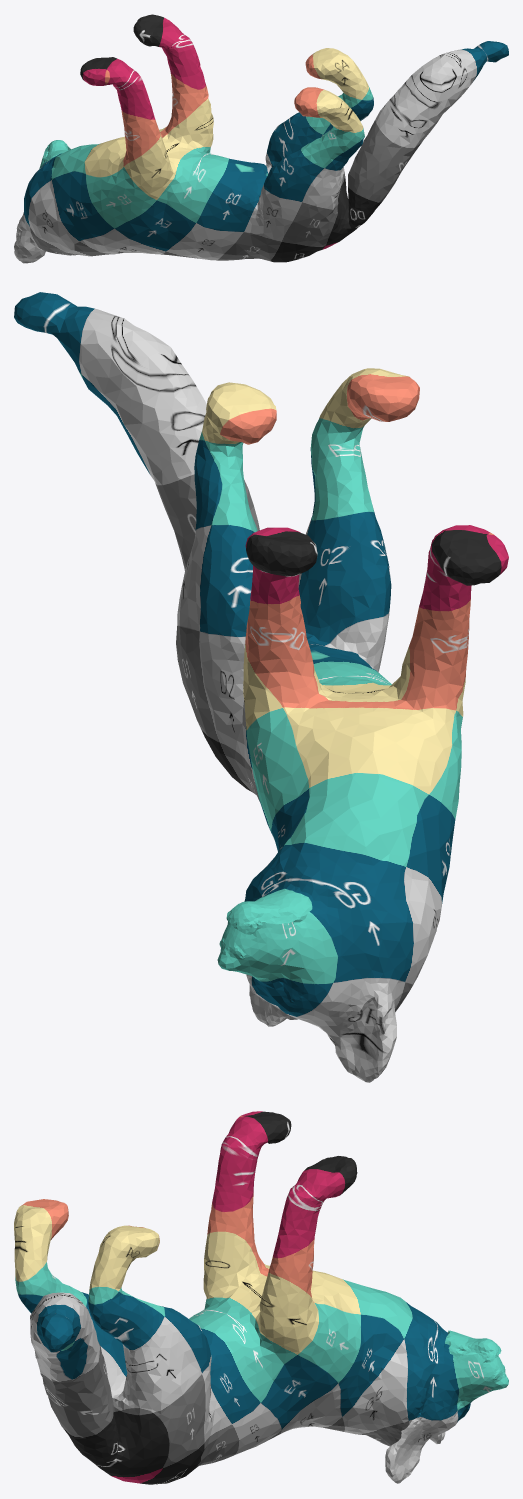
File: horse_08-fox_02.obj
3 views of the same model, one above another, from view 1: azimuth 30°, elevation 25°; view 2: azimuth 150°, elevation 25°; view 3: azimuth 270°, elevation 25° (orthographic). The views are drawn at different scales.
Parts seen in each view (by area): view 1: horse_08-fox_02_export; view 2: horse_08-fox_02_export; view 3: horse_08-fox_02_export.
Part boxes in pixels (x1=…): horse_08-fox_02_export: x1=14, y1=14, x2=508, y2=263; horse_08-fox_02_export: x1=14, y1=292, x2=508, y2=1082; horse_08-fox_02_export: x1=14, y1=1111, x2=508, y2=1484.
Size of the model in its own units: 0.8388 by 0.575 by 0.768.
